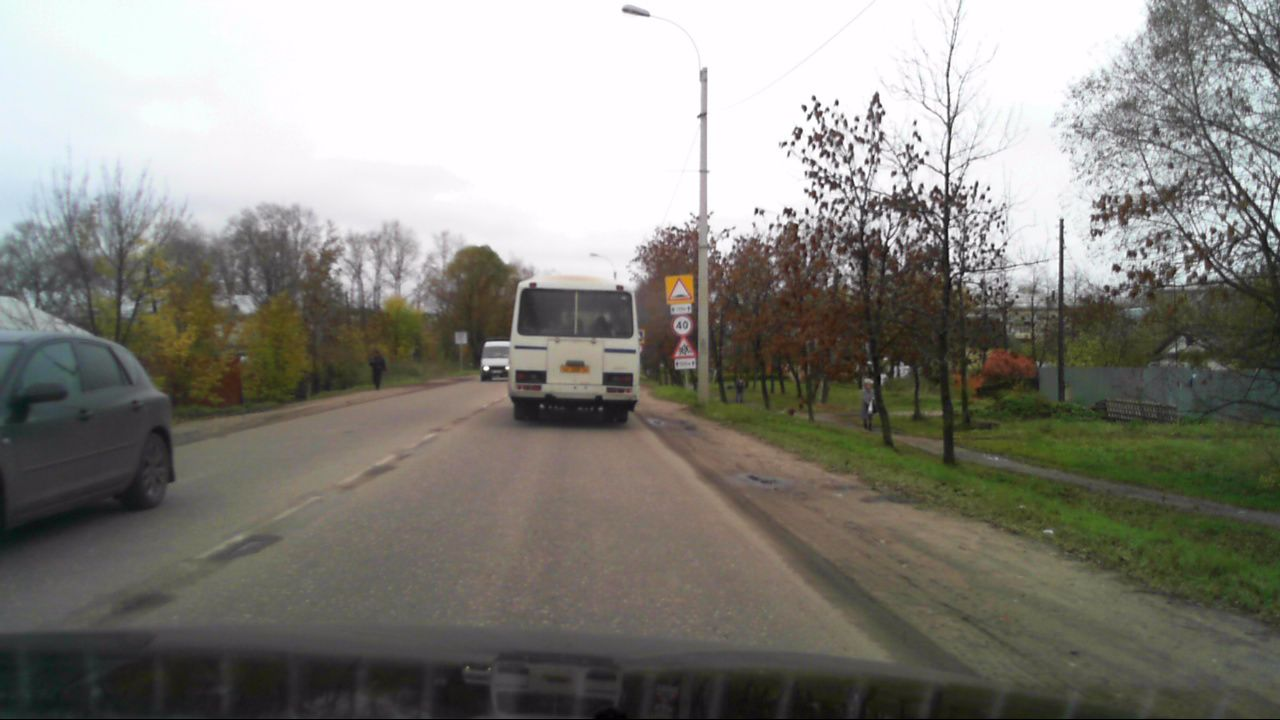speed_warning_40: (671, 315, 692, 336)
